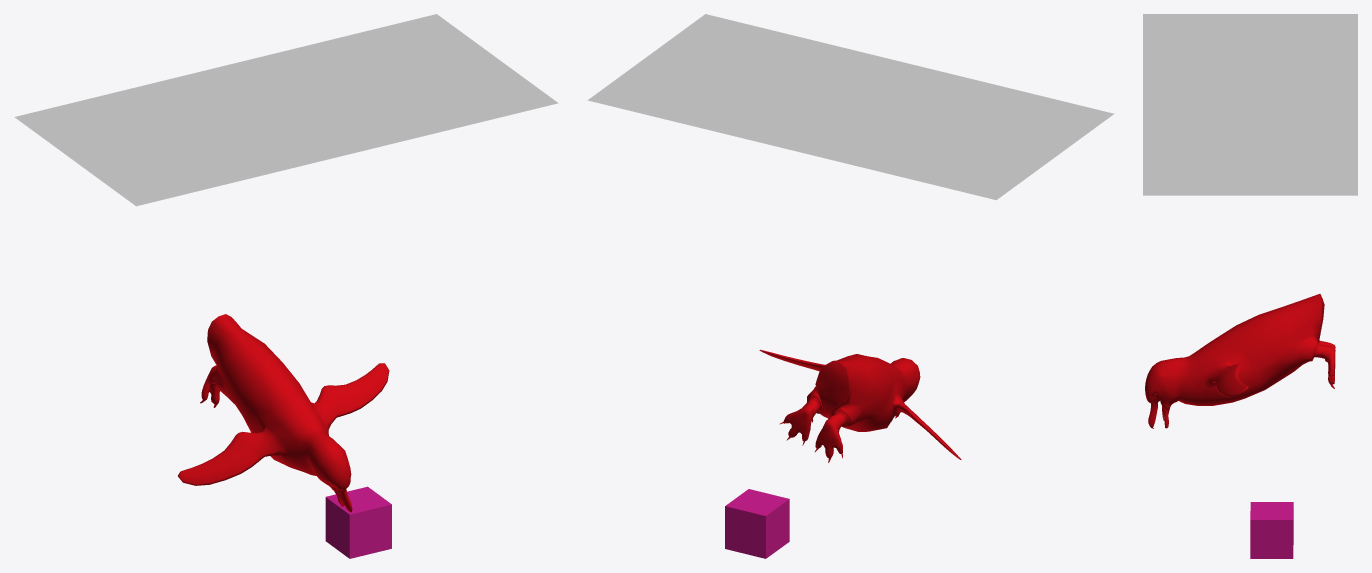
Rendered from peng4.obj.
3 views of the same model, side by side, from view 1: azimuth 30°, elevation 25°; view 2: azimuth 150°, elevation 25°; view 3: azimuth 270°, elevation 25° (orthographic). The views are drawn at different scales.
Parts seen in each view (by area): view 1: Plane, Animal, Cube; view 2: Plane, Animal, Cube; view 3: Plane, Animal, Cube.
Part boxes in pixels (<box>): Plane: <box>14,14,558,206</box>; Animal: <box>178,314,389,512</box>; Cube: <box>325,486,391,558</box>; Plane: <box>587,14,1114,200</box>; Animal: <box>759,349,961,462</box>; Cube: <box>725,489,789,558</box>; Plane: <box>1143,14,1357,195</box>; Animal: <box>1145,294,1335,428</box>; Cube: <box>1250,502,1293,558</box>.
Bounding box in the file's own units: 4 × 4.2 × 2.
